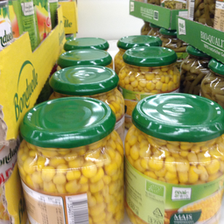corn: (16, 96, 125, 224), (123, 91, 223, 224), (119, 45, 182, 126)
